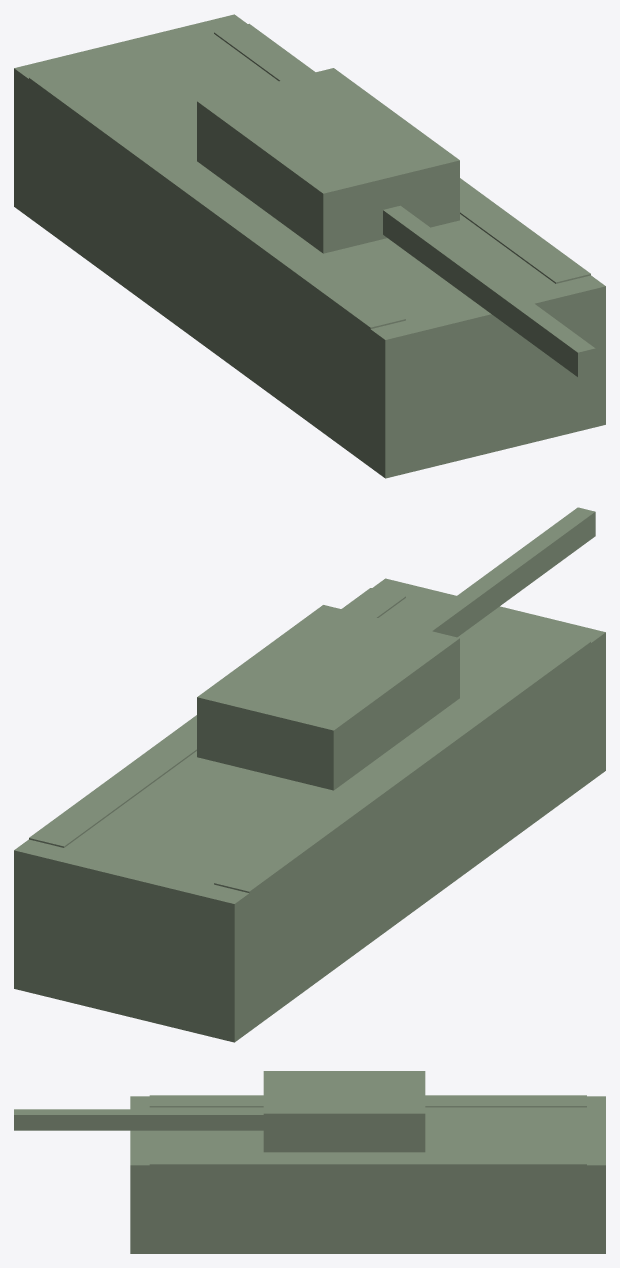
Rendered from himars.glb.
3 renders of one model, top to bottom at view 1: azimuth 30°, elevation 25°; view 2: azimuth 150°, elevation 25°; view 3: azimuth 270°, elevation 25°, orthographic. The views are drawn at different scales.
Visible parts, largest first — view 1: Hull, Turret, Track_L, Gun, Track_R; view 2: Hull, Track_L, Turret, Gun, Track_R; view 3: Hull, Track_R, Turret, Gun, Track_L.
Part boxes in pixels (x1,y1,x2,y2): Hull: [14, 14, 605, 478]; Turret: [197, 68, 459, 253]; Track_L: [29, 69, 405, 373]; Gun: [383, 205, 595, 377]; Track_R: [214, 23, 590, 283]; Hull: [14, 578, 605, 1042]; Track_L: [214, 633, 590, 958]; Turret: [197, 605, 459, 790]; Gun: [415, 507, 595, 637]; Track_R: [29, 588, 405, 847]; Hull: [130, 1096, 605, 1253]; Track_R: [149, 1153, 586, 1207]; Turret: [263, 1071, 425, 1152]; Gun: [14, 1109, 263, 1130]; Track_L: [149, 1095, 586, 1107].
Bounding box in the file's own units: 2.4 × 2.06 × 8.72.
